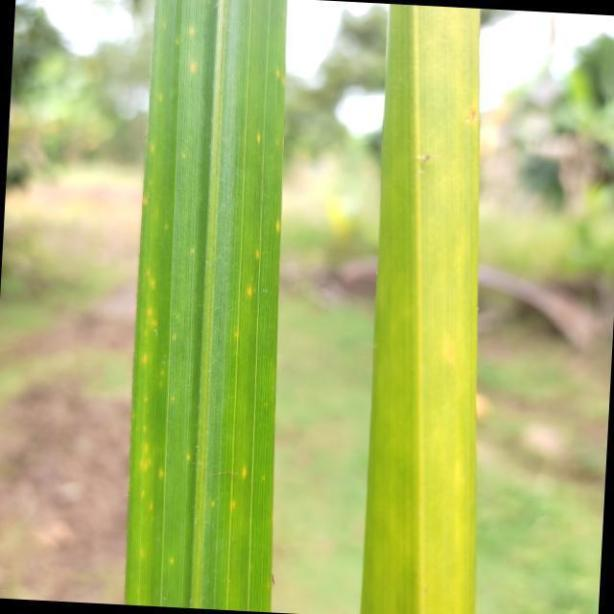nitrogen: (123, 0, 286, 614), (358, 0, 478, 614)
